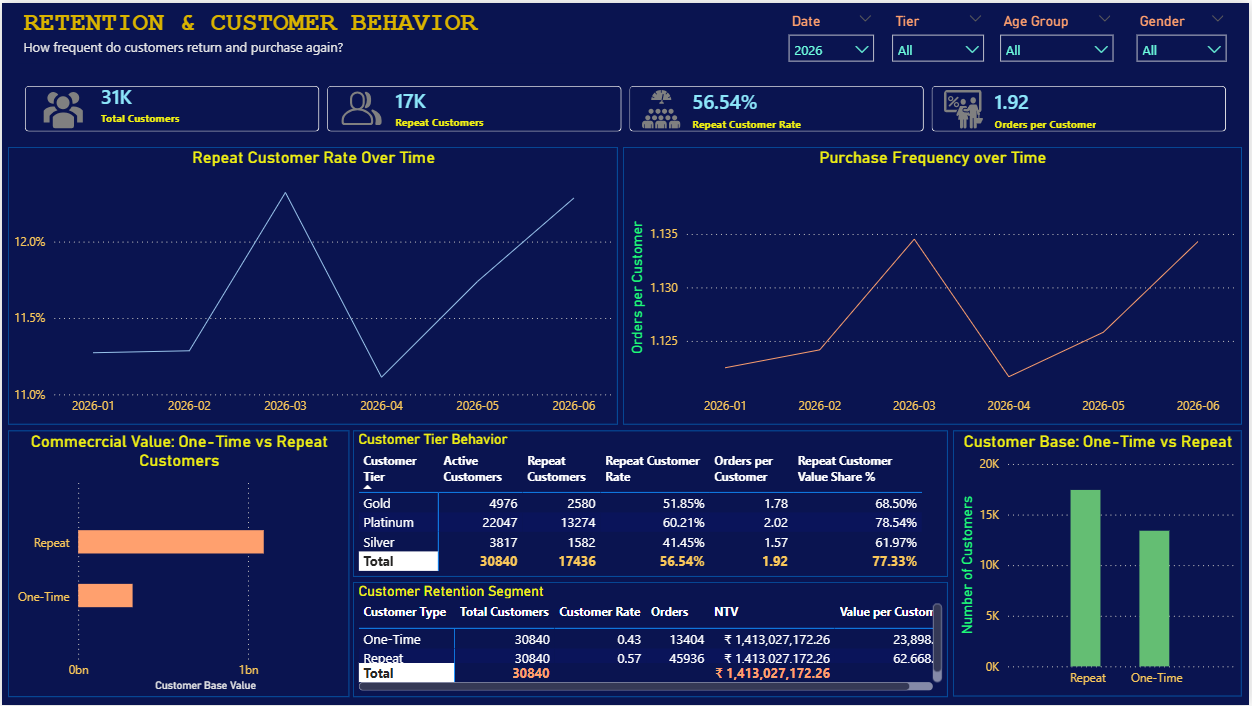

What the dashboard file says about the page in this screenshot:
{"tool":"powerbi","page":{"name":"Retention & Customer Behavior","canvas":[1280,720],"ordinal":3},"visuals":[{"type":"cardVisual","fields":{"Data":["_Measure.Total Customers","_Measure.Repeat Customers","_Measure.Repeat Customer Rate","_Measure.Orders per Customer"]},"box":[5.4,67,1266.5,81.3],"z":0},{"type":"lineChart","title":"Repeat Customer Rate Over Time","fields":{"Category":["Dim_Date.Year Month"],"Y":["_Measure.Repeat Customer Rate"]},"box":[5.9,148.3,625.6,284.7],"z":1000},{"type":"clusteredBarChart","title":"Commecrcial Value: One-Time vs Repeat Customers","fields":{"Category":["Customer_Behavior.Customer Type"],"Y":["_Measure.Customer Type Value"]},"box":[5.9,438.4,350.2,273.4],"z":2000},{"type":"slicer","fields":{"Values":["Dim_Date.Year"]},"box":[797,4.4,107.4,57.6],"z":3000},{"type":"clusteredColumnChart","title":"Customer Base: One-Time vs Repeat","fields":{"Category":["Customer_Behavior.Customer Type"],"Y":["_Measure.Customer Type Count"]},"box":[975.9,438.4,296.1,272.9],"z":4000},{"type":"lineChart","title":"Purchase Frequency over Time","fields":{"Y":["_Measure.Orders per Customer"],"Category":["Dim_Date.Year Month"]},"box":[637.4,148.3,634.5,284.7],"z":5000},{"type":"pivotTable","title":"Customer Tier Behavior","fields":{"Rows":["Dim_Customers.customer_tier"],"Values":["_Measure.Total Customers","_Measure.Repeat Customers","_Measure.Repeat Customer Rate","_Measure.Orders per Customer","_Measure.Repeat Customer Value Share %"]},"box":[360.6,438.4,609.9,150.2],"z":6000},{"type":"slicer","fields":{"Values":["Dim_Customers.customer_tier"]},"box":[902.5,4.4,114.3,57.6],"z":7000},{"type":"slicer","fields":{"Values":["Dim_Customers.age_group"]},"box":[1014.3,4.4,136,57.6],"z":8000},{"type":"slicer","fields":{"Values":["Dim_Customers.gender"]},"box":[1154.2,4.4,111.8,57.6],"z":9000},{"type":"pivotTable","title":"Customer Retention Segment","fields":{"Rows":["Customer_Behavior.Customer Type"],"Values":["_Measure.Total Customers","_Measure.Customer Type Rate","_Measure.Customer Type Orders","_Measure.Net Transaction Value","_Measure.Customer Type Value per Customer"]},"box":[360.4,594,610.2,117.9],"z":10000},{"type":"textbox","box":[16.7,0,564.8,62.1],"z":11000}]}

Visuals, with their boxes in screenshot pixels (x1, y1, x2, y2), scaled from the page's 1280x720 canvas onto the 1252x706 screenshot:
cardVisual - _Measure.Total Customers x _Measure.Repeat Customers: [5,66,1244,145]
"Repeat Customer Rate Over Time" lineChart: [6,145,618,425]
"Commecrcial Value: One-Time vs Repeat Customers" clusteredBarChart: [6,430,348,698]
slicer - Dim_Date.Year: [780,4,885,61]
"Customer Base: One-Time vs Repeat" clusteredColumnChart: [955,430,1244,697]
"Purchase Frequency over Time" lineChart: [623,145,1244,425]
"Customer Tier Behavior" pivotTable: [353,430,949,577]
slicer - Dim_Customers.customer_tier: [883,4,995,61]
slicer - Dim_Customers.age_group: [992,4,1125,61]
slicer - Dim_Customers.gender: [1129,4,1238,61]
"Customer Retention Segment" pivotTable: [353,582,949,698]
textbox: [16,0,569,61]
